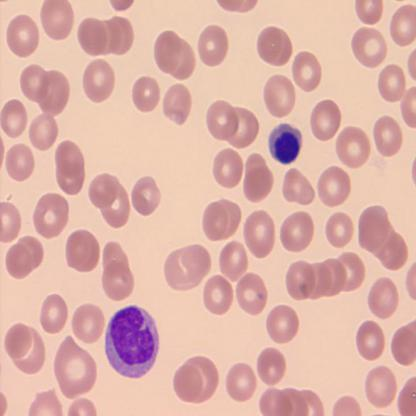NRC: (266, 122, 303, 166)
